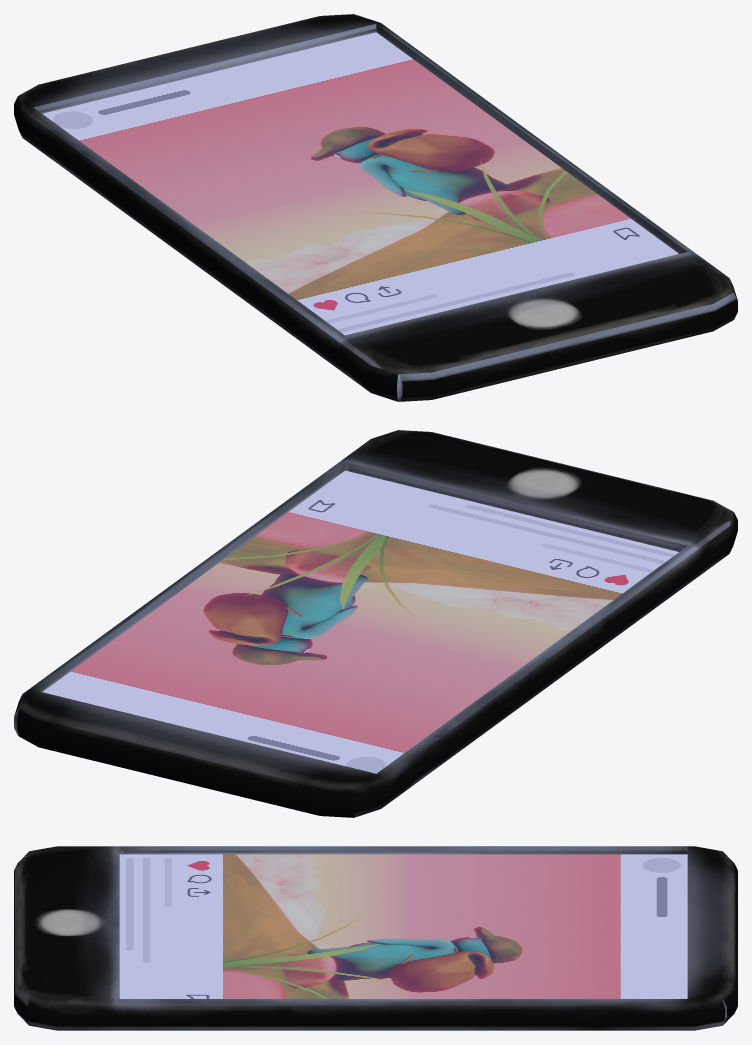
Rendered from phone.fbx.
3 views of the same model, one above another, from view 1: azimuth 30°, elevation 25°; view 2: azimuth 150°, elevation 25°; view 3: azimuth 270°, elevation 25° (orthographic). The views are drawn at different scales.
Parts seen in each view (by area): view 1: Phone Screen, Phone; view 2: Phone Screen, Phone; view 3: Phone Screen, Phone.
Part boxes in pixels (left/top/right/bottom): Phone Screen: left=42, top=32, right=678, bottom=335; Phone: left=14, top=14, right=737, bottom=401; Phone Screen: left=42, top=470, right=678, bottom=773; Phone: left=14, top=430, right=737, bottom=817; Phone Screen: left=119, top=854, right=687, bottom=998; Phone: left=14, top=846, right=737, bottom=1030.
Size of the model in its own units: 0.1345 by 0.0121 by 0.2534.
